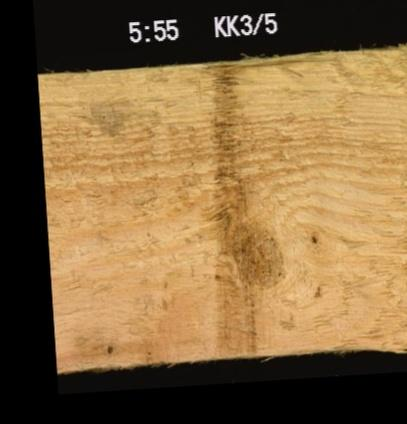small_knot: (306, 230, 320, 246), (103, 340, 115, 356)
sound_knot: (217, 213, 288, 293)
